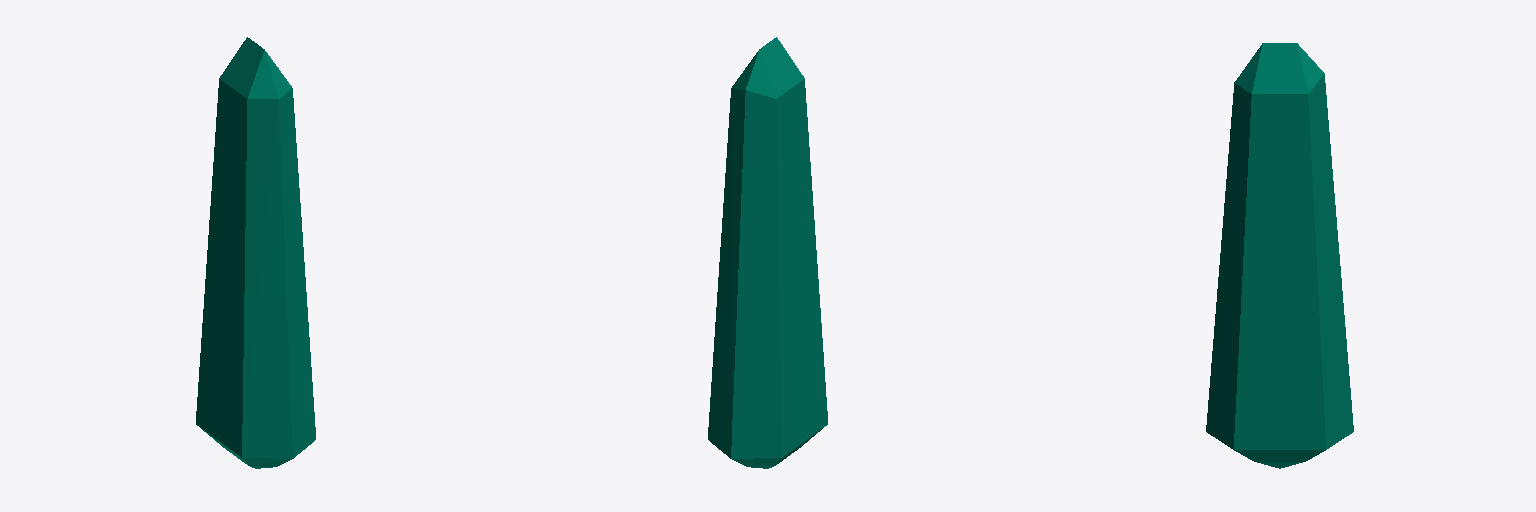
Rendered from Crystal_1.obj.
The picture shows the model from 3 angles: view 1: azimuth 30°, elevation 25°; view 2: azimuth 150°, elevation 25°; view 3: azimuth 270°, elevation 25°; orthographic projection.
Visible parts, largest first — view 1: Box052; view 2: Box052; view 3: Box052.
Part boxes in pixels (bbox=[...]): Box052: bbox=[196, 37, 315, 468]; Box052: bbox=[708, 37, 827, 468]; Box052: bbox=[1206, 43, 1353, 468].
Size of the model in its own units: 0.3594 by 1.97 by 0.6199.